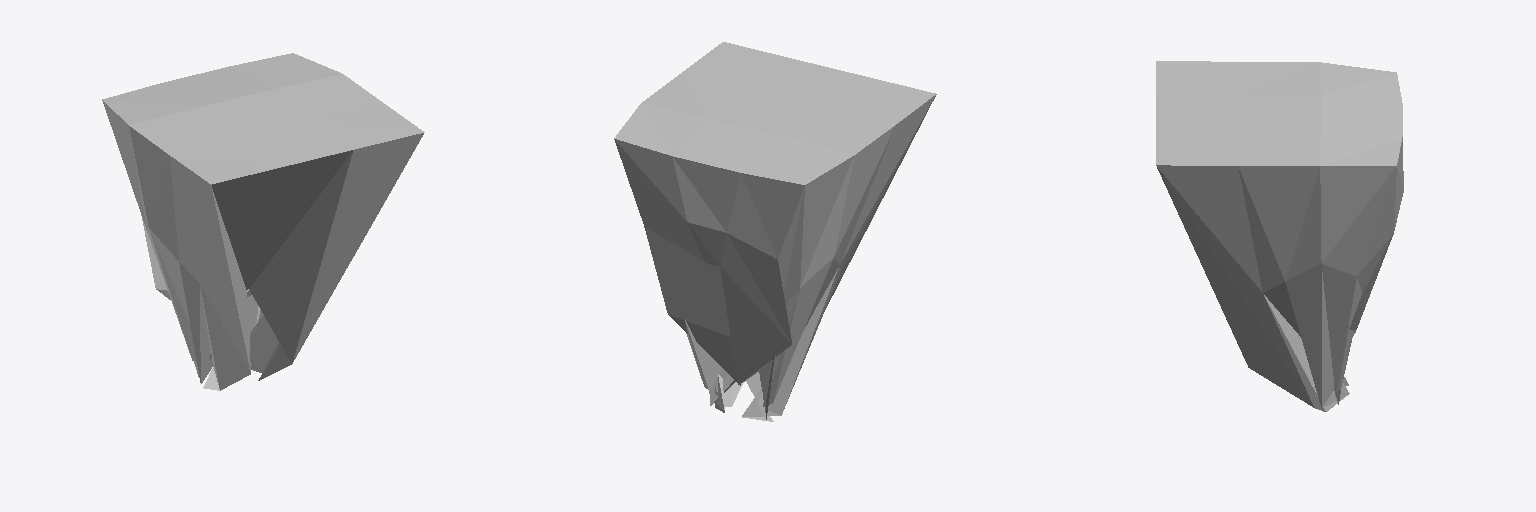
File: stone009.obj
3 renders of one model, left to right at view 1: azimuth 30°, elevation 25°; view 2: azimuth 150°, elevation 25°; view 3: azimuth 270°, elevation 25°, orthographic.
Visible parts, largest first — view 1: Landscape; view 2: Landscape; view 3: Landscape.
Part boxes in pixels (x1,y1,x2,y2): Landscape: (102,53,424,390); Landscape: (614,42,936,421); Landscape: (1156,61,1403,411).
Size of the model in its own units: 0.4293 by 0.5471 by 0.4304.